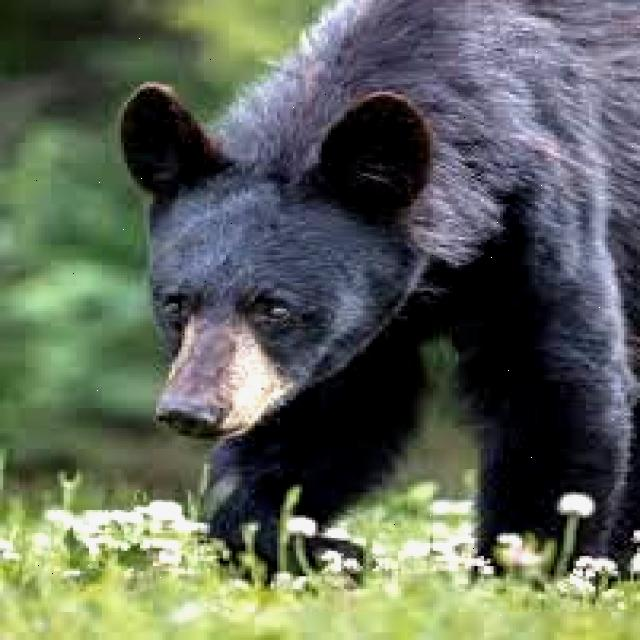bear: (136, 9, 638, 546)
